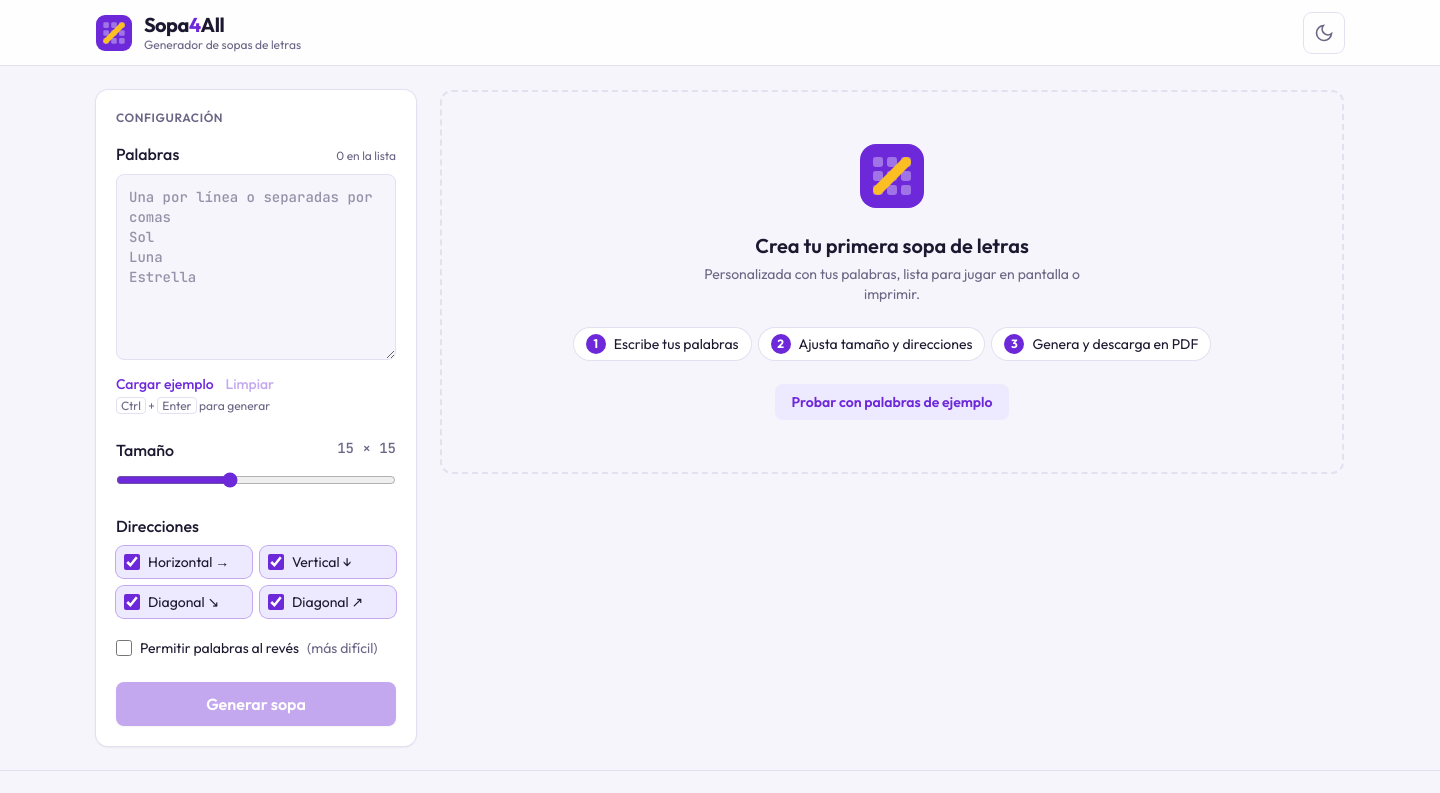
Test: App › genera con Ctrl + Enter desde la caja de palabras
This screenshot has width=1440, height=793.
In the text box labelled "Palabras": (256, 267) [116,174,396,360], type "sol"
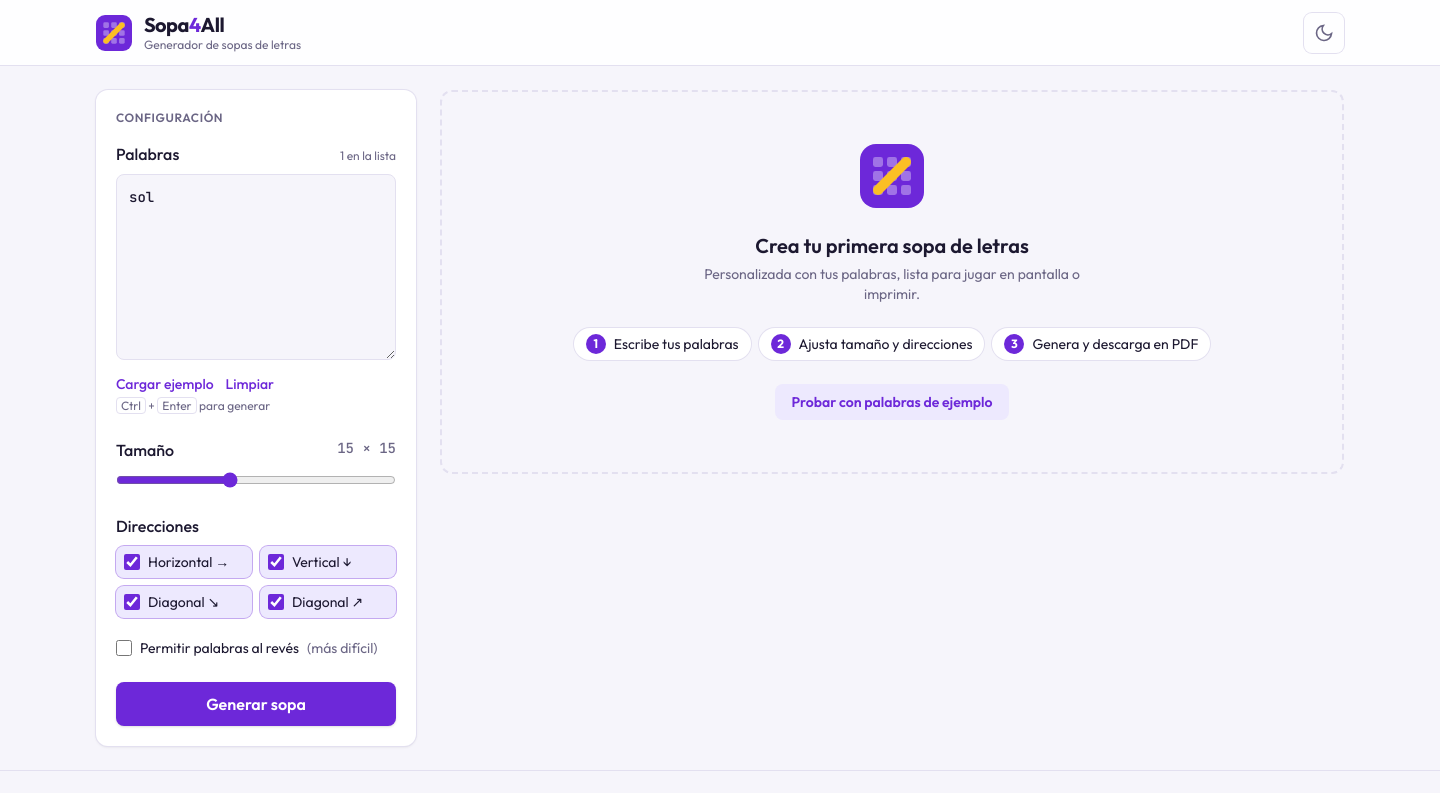
Press Enter in the text box labelled "Palabras", box [116,174,396,360]
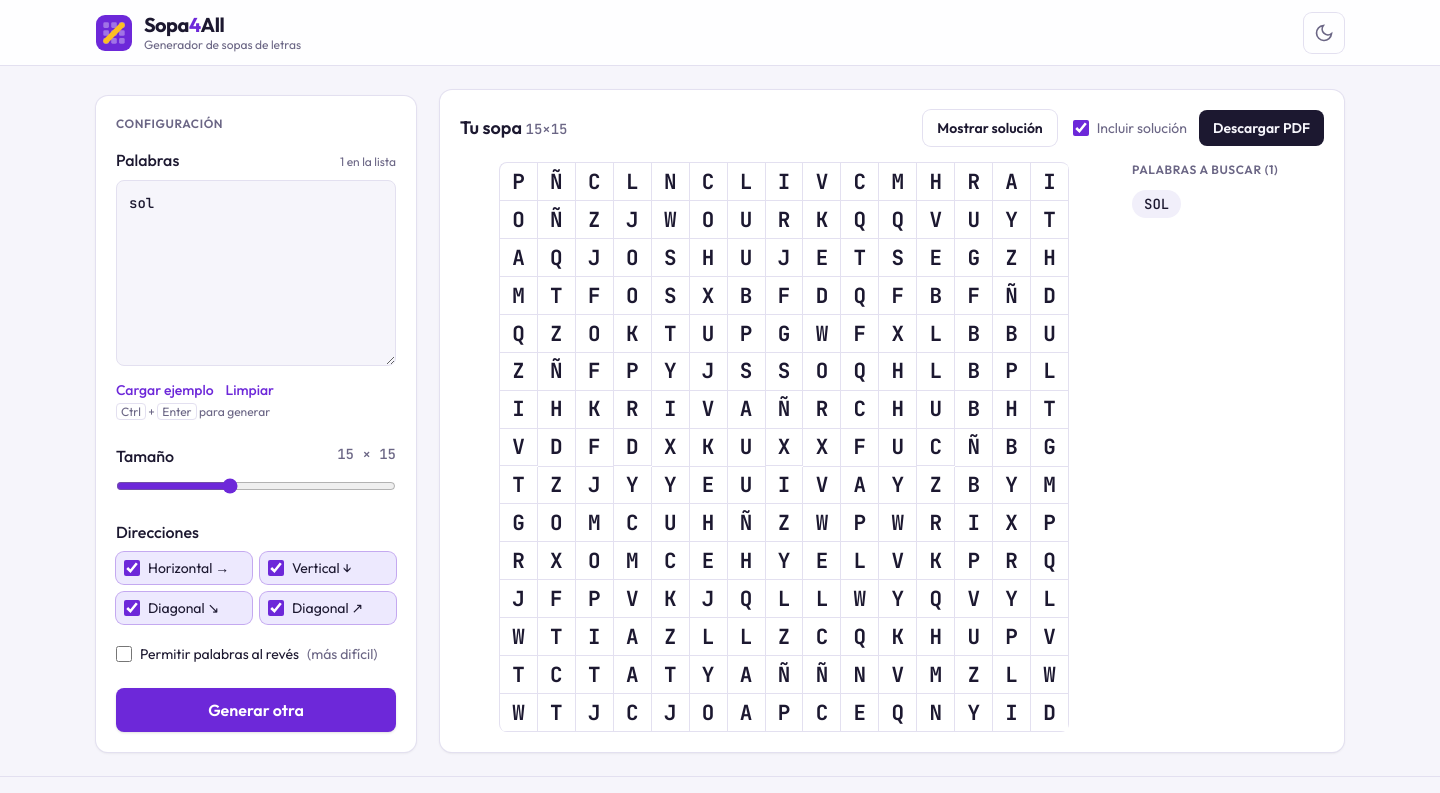
Result: the number of cells is 225
